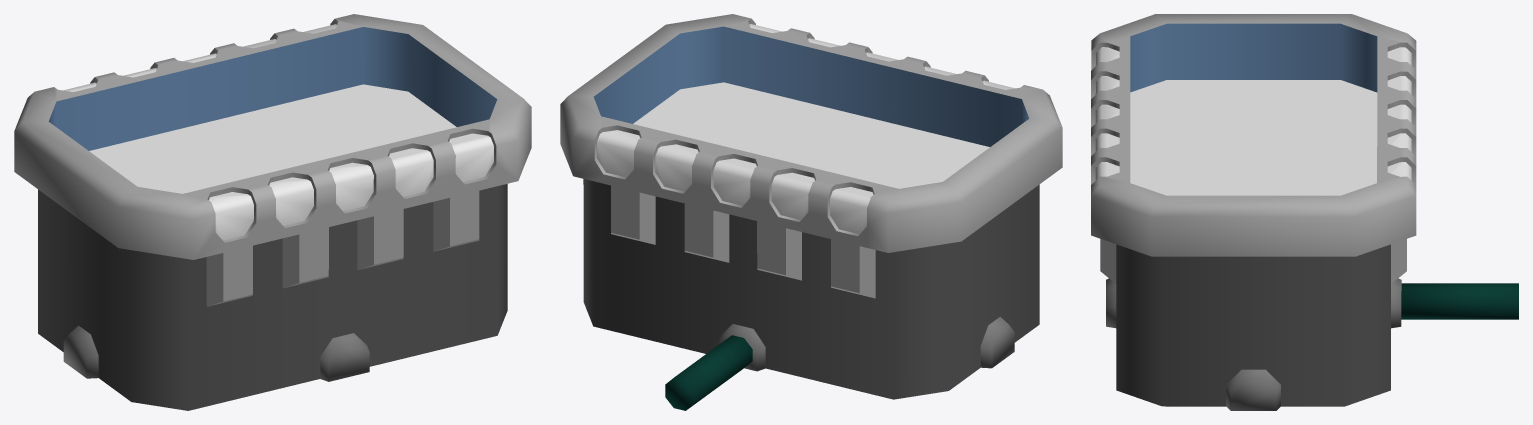
The model's file is Hydroponics Tray.fbx.
3 views of the same model, side by side, from view 1: azimuth 30°, elevation 25°; view 2: azimuth 150°, elevation 25°; view 3: azimuth 270°, elevation 25° (orthographic). The views are drawn at different scales.
Parts seen in each view (by area): view 1: Hydroponics Tray, Hydrogel, Hydro Tray Lights Blue, Hydro Tray Lights Green, Hydro Tray Lights Yellow, Hydro Tray Lights Red, Hydro Tray Lights Orange; view 2: Hydroponics Tray, Hydrogel, Hydro Tray Hose, Hydro Tray Lights Red, Hydro Tray Lights Orange, Hydro Tray Lights Blue, Hydro Tray Lights Yellow, Hydro Tray Lights Green; view 3: Hydroponics Tray, Hydrogel, Hydro Tray Hose, Hydro Tray Lights Orange, Hydro Tray Lights Blue, Hydro Tray Lights Yellow, Hydro Tray Lights Green, Hydro Tray Lights Red.
Boxes of the visible parts, x1,y1,x2,y2 form: Hydroponics Tray: (14, 14, 531, 410); Hydrogel: (89, 84, 456, 193); Hydro Tray Lights Blue: (303, 24, 493, 182); Hydro Tray Lights Green: (63, 82, 253, 240); Hydro Tray Lights Yellow: (243, 39, 433, 196); Hydro Tray Lights Red: (123, 68, 313, 225); Hydro Tray Lights Orange: (183, 53, 373, 211); Hydroponics Tray: (560, 14, 1062, 399); Hydrogel: (633, 82, 989, 188); Hydro Tray Hose: (665, 335, 752, 410); Hydro Tray Lights Red: (771, 66, 956, 219); Hydro Tray Lights Orange: (713, 52, 898, 205); Hydro Tray Lights Blue: (597, 24, 781, 177); Hydro Tray Lights Yellow: (655, 38, 840, 191); Hydro Tray Lights Green: (830, 80, 1014, 234); Hydroponics Tray: (1091, 14, 1416, 410); Hydrogel: (1130, 80, 1377, 195); Hydro Tray Hose: (1401, 283, 1518, 319); Hydro Tray Lights Orange: (1095, 104, 1411, 122); Hydro Tray Lights Blue: (1095, 162, 1411, 180); Hydro Tray Lights Yellow: (1095, 133, 1411, 151); Hydro Tray Lights Green: (1096, 47, 1411, 65); Hydro Tray Lights Red: (1095, 76, 1411, 94).
Bounding box in the file's own units: 0.8829 × 0.4326 × 0.8092.
